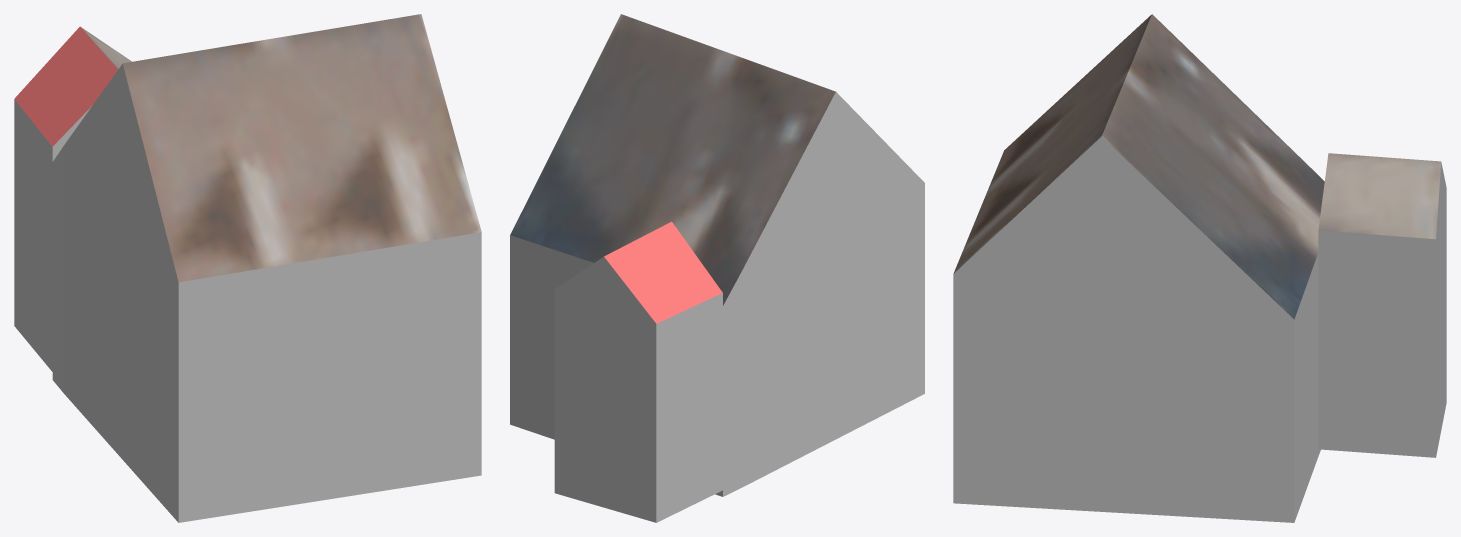
The model's file is DEBW_0010007Tx7g.gltf.
The picture shows the model from 3 angles, left to right: view 1: azimuth 30°, elevation 25°; view 2: azimuth 150°, elevation 25°; view 3: azimuth 270°, elevation 25°; orthographic projection. The views are drawn at different scales.
Visible parts, largest first — view 1: Z_UP; view 2: Z_UP; view 3: Z_UP.
Boxes of the visible parts, x1=… form: Z_UP: x1=14, y1=14, x2=481, y2=522; Z_UP: x1=510, y1=14, x2=924, y2=522; Z_UP: x1=953, y1=14, x2=1446, y2=522.
Bounding box in the file's own units: 9.63 × 11.52 × 13.73.
3 materials, 1 textured.
